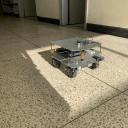cart: (50, 36, 102, 78)
